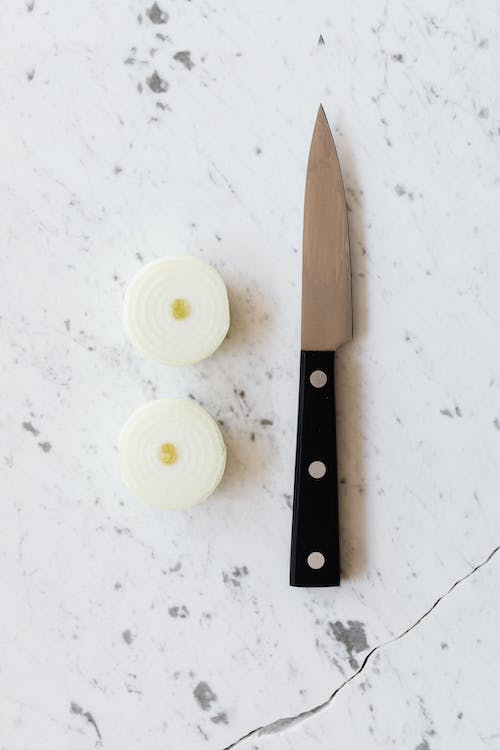knife: (287, 99, 354, 588)
